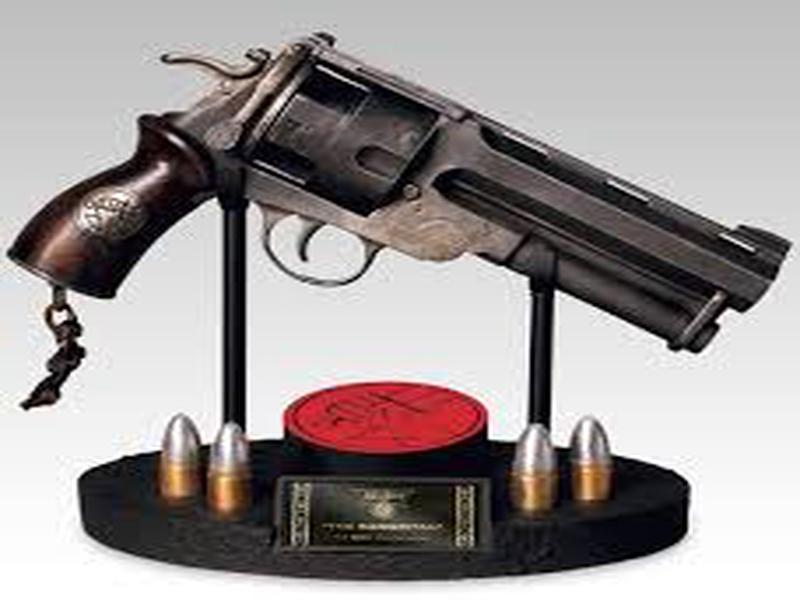gun: (7, 26, 793, 360)
